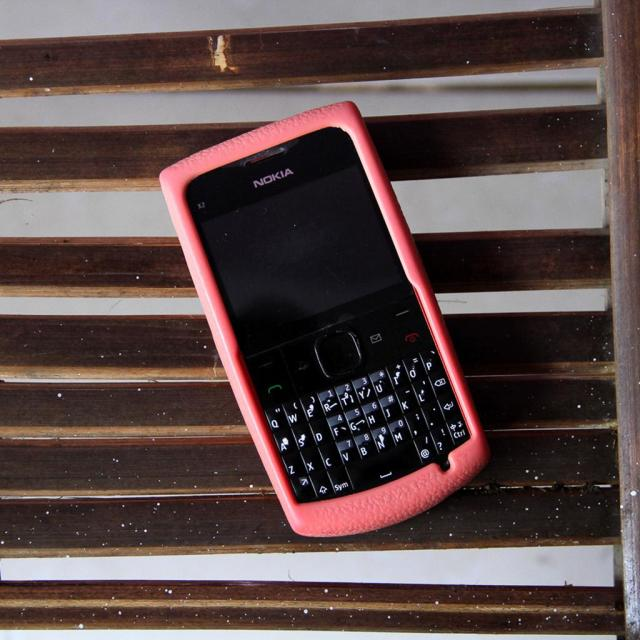Phone: (158, 98, 494, 538)
